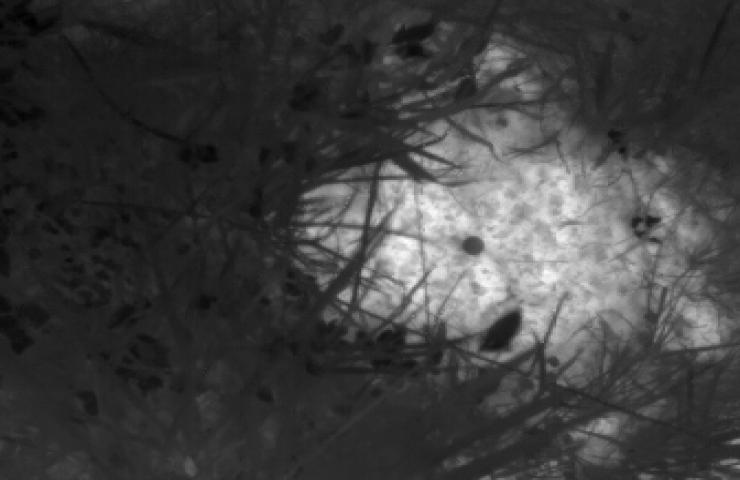landmines: (295, 46, 726, 390)
